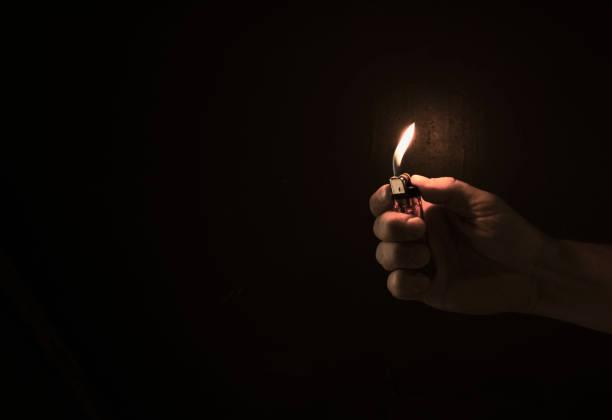Fire: (384, 120, 423, 177)
